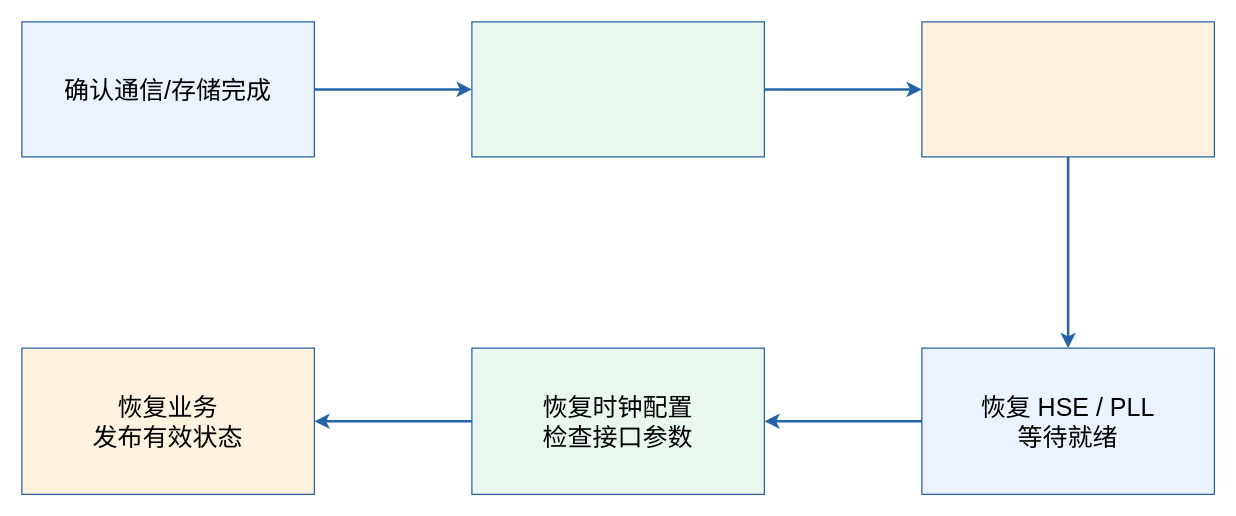
Image size: 1236x516. Some labels were removed from this diagram. The centre of each missing label's shape, as x and y in pixels:
"有效事件唤醒 F1 先使用 HSI" goes at (x=1067, y=89).
"配置唤醒源 进入 Stop" goes at (x=617, y=89).
